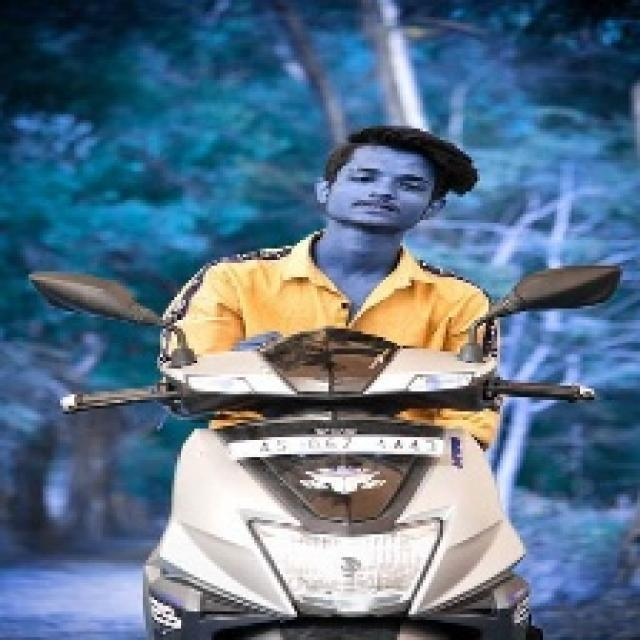bike: (81, 302, 596, 638)
